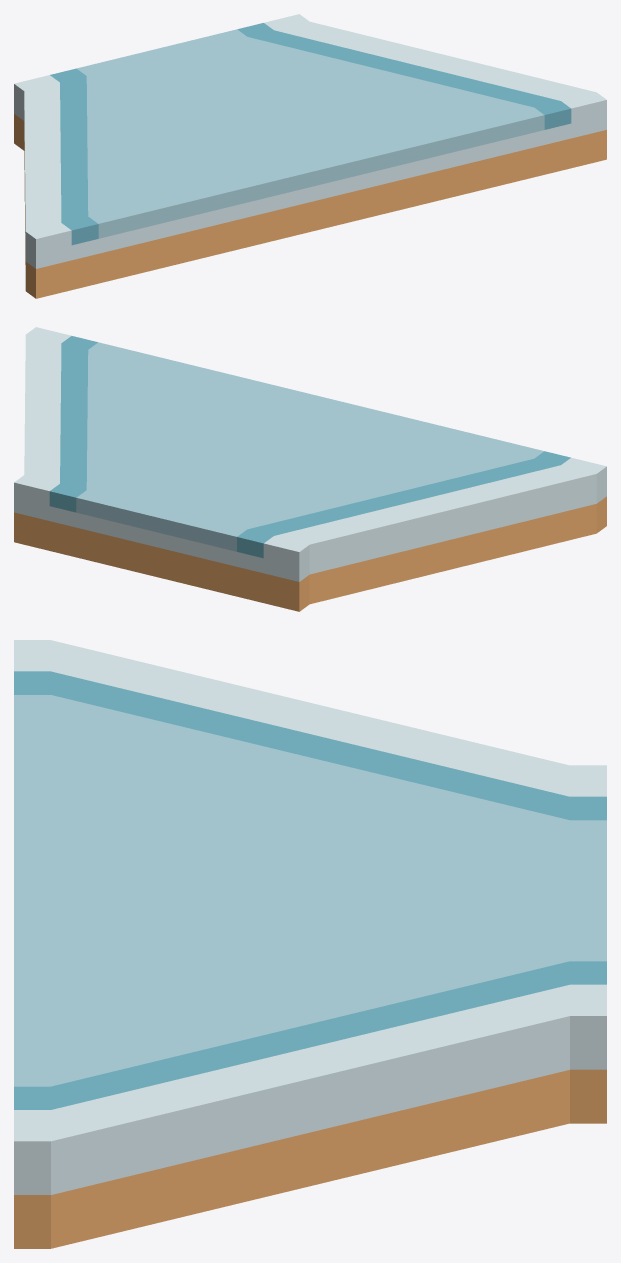
The model's file is snow_tile_wideTransition(+).fbx.
3 views of the same model, one above another, from view 1: azimuth 30°, elevation 25°; view 2: azimuth 150°, elevation 25°; view 3: azimuth 270°, elevation 25° (orthographic). The views are drawn at different scales.
Visible parts, largest first — view 1: Mesh_1; view 2: Mesh_1; view 3: Mesh_1.
Part boxes in pixels (box(x1,y1,x2,y2)): Mesh_1: box(14, 14, 606, 298); Mesh_1: box(14, 327, 606, 611); Mesh_1: box(14, 640, 606, 1248).
Bounding box in the file's own units: 200 × 20 × 100.
